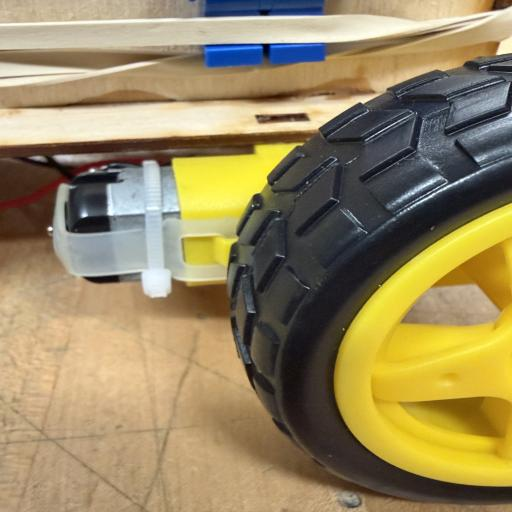Blue-Lego: (204, 43, 326, 67), (204, 0, 325, 17)
